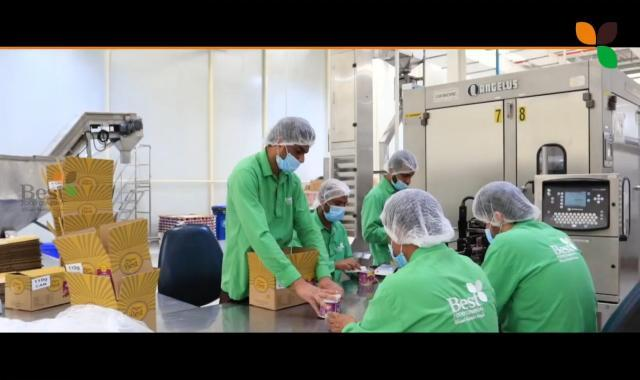Hairnet: (379, 191, 454, 245), (473, 183, 538, 222), (269, 117, 315, 147), (387, 151, 421, 174), (308, 179, 350, 197)
Mask: (274, 151, 306, 176), (387, 247, 410, 271), (323, 204, 344, 225), (486, 223, 495, 245), (392, 178, 408, 189)
No_Apron: (387, 256, 488, 335), (498, 230, 568, 334), (240, 167, 292, 289), (328, 224, 345, 277)
No_Glove: (294, 286, 328, 319), (329, 316, 356, 332), (337, 258, 362, 273)
